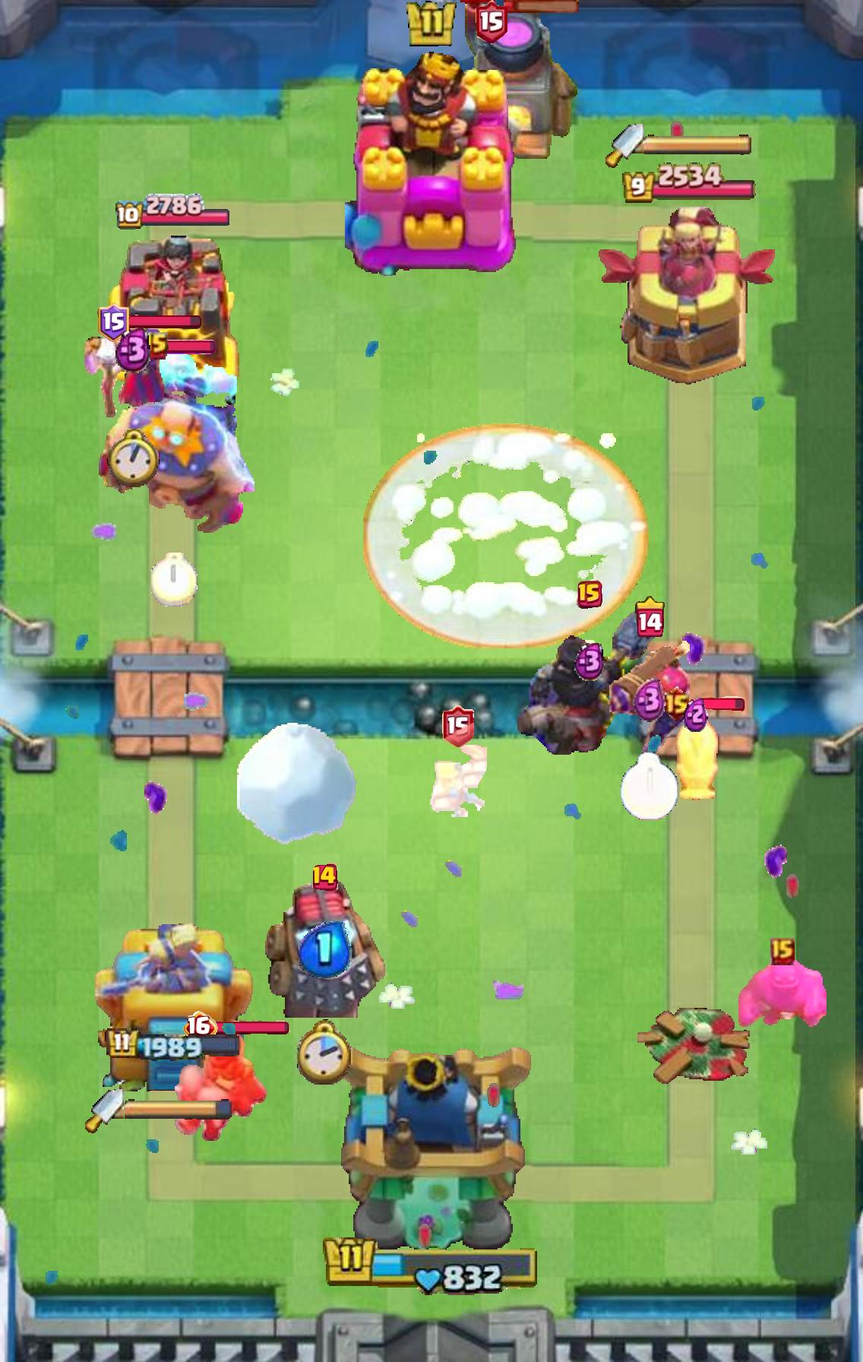elixir: (298, 922, 352, 979), (114, 326, 153, 374), (633, 678, 666, 724), (573, 641, 606, 681), (684, 694, 708, 732)
